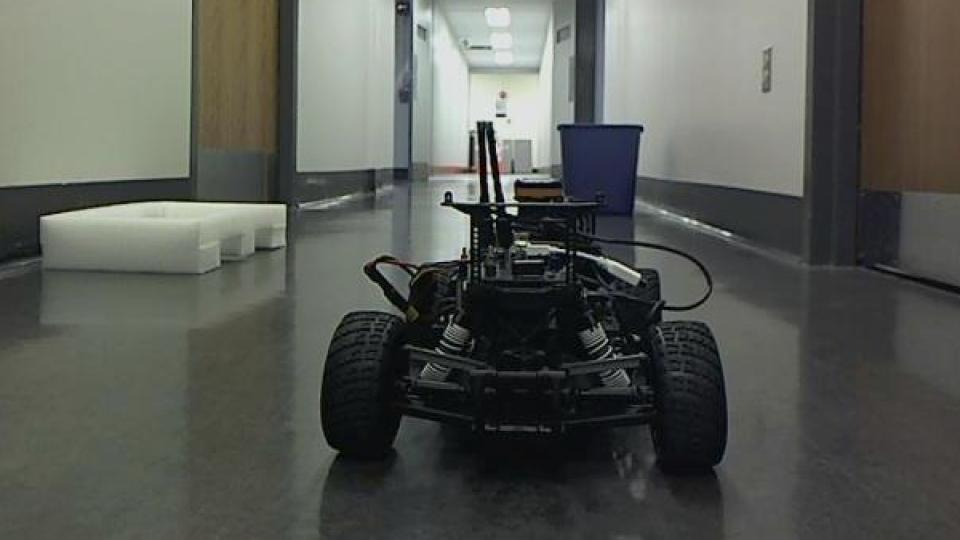car: (317, 119, 733, 476)
